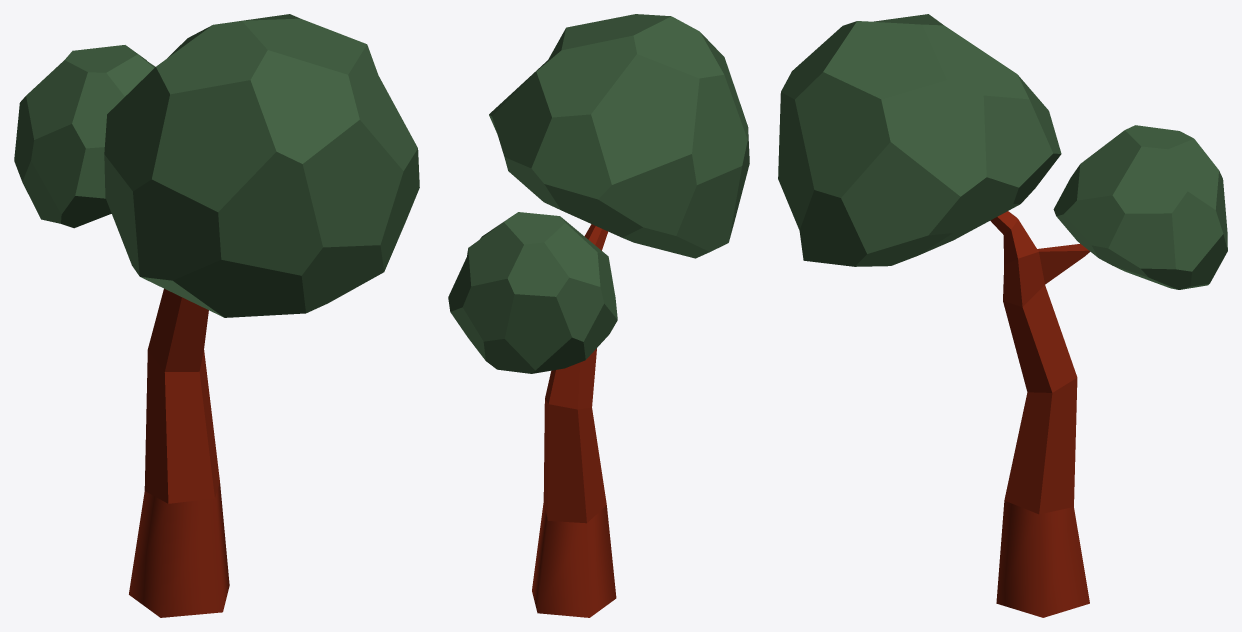
Rendered from Tree2.FBX.
The picture shows the model from 3 angles, left to right: view 1: azimuth 30°, elevation 25°; view 2: azimuth 150°, elevation 25°; view 3: azimuth 270°, elevation 25°; orthographic projection. The views are drawn at different scales.
Parts seen in each view (by area): view 1: Hedra003, Cylinder002, Hedra002; view 2: Hedra003, Hedra002, Cylinder002; view 3: Hedra003, Cylinder002, Hedra002.
Part boxes in pixels (left/top/right/bottom): Hedra003: left=104, top=14, right=419, bottom=317; Cylinder002: left=129, top=288, right=229, bottom=617; Hedra002: left=14, top=45, right=155, bottom=228; Hedra003: left=489, top=14, right=749, bottom=258; Hedra002: left=448, top=212, right=617, bottom=373; Cylinder002: left=532, top=224, right=616, bottom=617; Hedra003: left=778, top=14, right=1061, bottom=266; Cylinder002: left=990, top=211, right=1090, bottom=617; Hedra002: left=1053, top=125, right=1227, bottom=289.
Size of the model in its own units: 509 by 1125 by 806.
